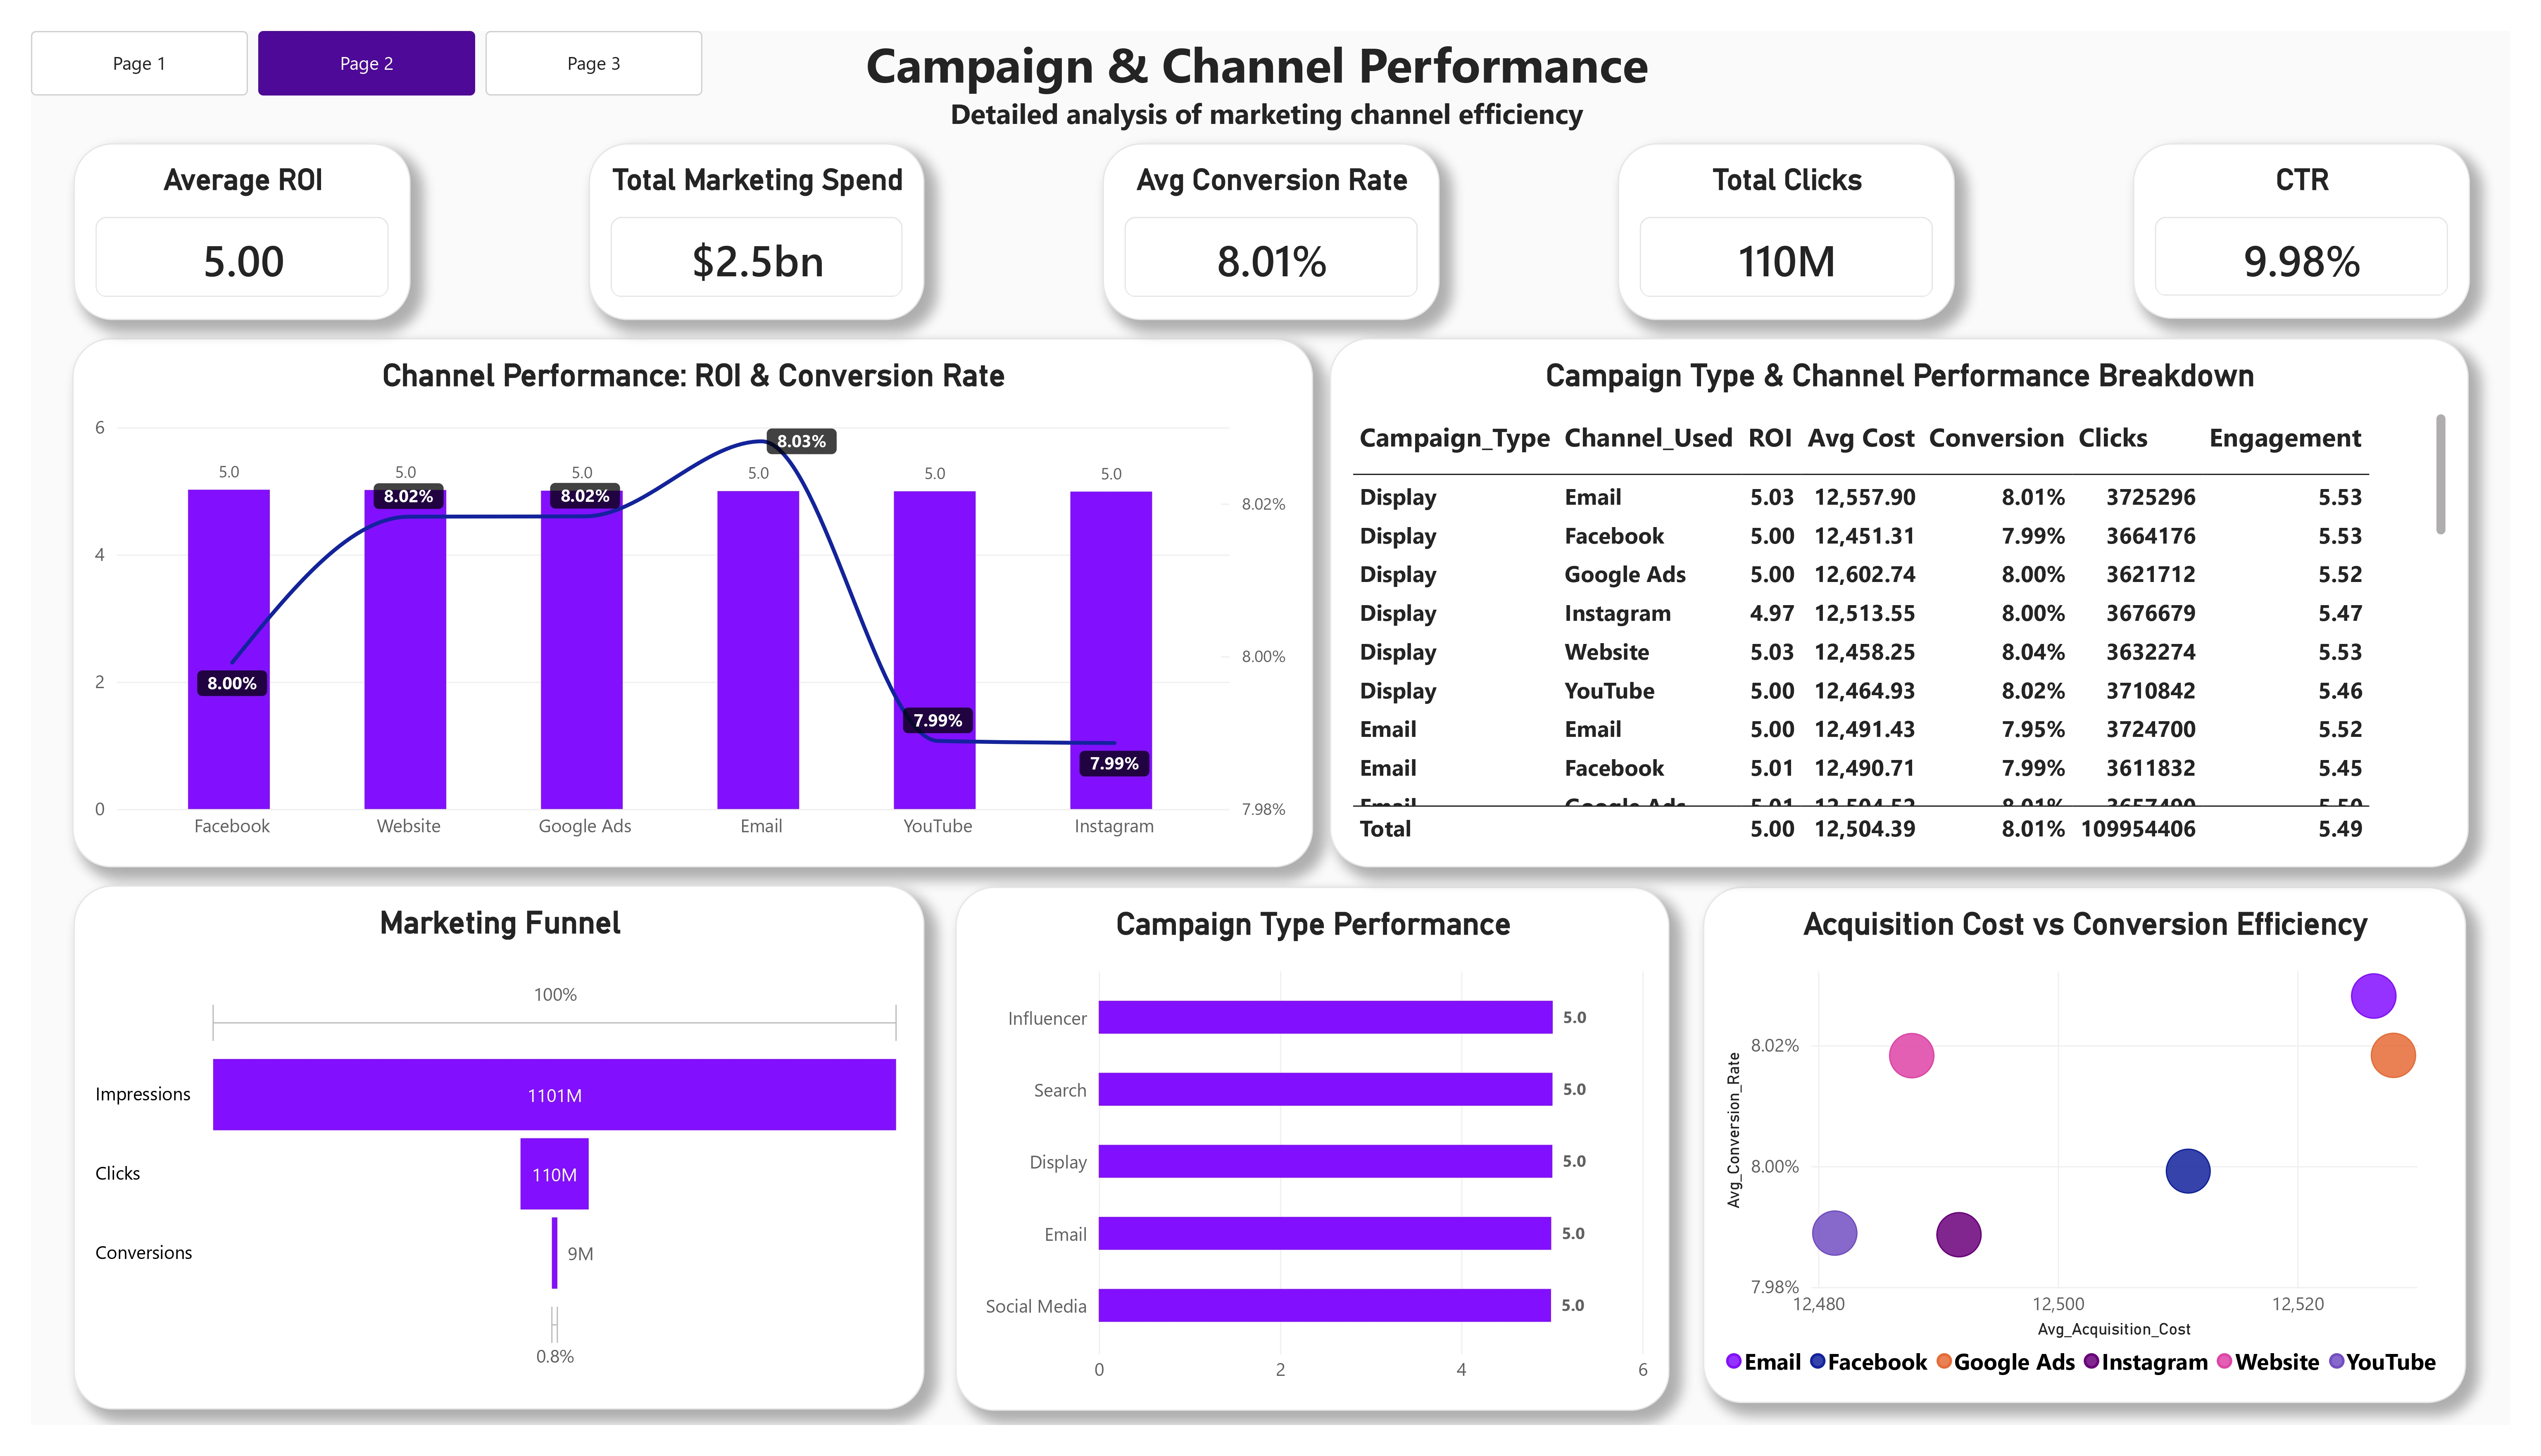

The dashboard page shown, as its layout file describes it:
{"tool":"powerbi","page":{"name":"Page 2","canvas":[1920,1080],"ordinal":1},"visuals":[{"type":"textbox","box":[10,0,280,280],"z":0},{"type":"textbox","box":[0,0,1920,77.1],"z":1000},{"type":"lineClusteredColumnComboChart","title":"Channel Performance: ROI & Conversion Rate","fields":{"Category":["marketing_campaign_dataset.Channel_Used"],"Y":["_Measure.Avg_ROI"],"Y2":["_Measure.Avg_Conversion_Rate"]},"box":[32.4,237.7,960.7,410.7],"z":2000},{"type":"cardVisual","title":"Average ROI","fields":{"Data":["_Measure.Avg_ROI"]},"box":[33,86.9,260.7,136.7],"z":3000},{"type":"cardVisual","title":"Avg Conversion Rate","fields":{"Data":["_Measure.Avg_Conversion_Rate"]},"box":[830.4,87,260.7,136.7],"z":4000},{"type":"cardVisual","title":"Total Clicks","fields":{"Data":["_Measure.Total_Clicks"]},"box":[1229,87,260.7,136.7],"z":5000},{"type":"cardVisual","title":"Total Marketing Spend","fields":{"Data":["_Measure.Total_Acquisition_Cost"]},"box":[431.7,86.9,260.7,136.7],"z":6000},{"type":"cardVisual","title":"CTR","fields":{"Data":["_Measure.CTR"]},"box":[1627.7,86.9,260.8,136.4],"z":7000},{"type":"clusteredBarChart","title":"Campaign Type Performance","fields":{"Category":["marketing_campaign_dataset.Campaign_Type"],"Y":["_Measure.Avg_ROI"]},"box":[716,662.5,552.8,406.5],"z":8000},{"type":"scatterChart","title":"Acquisition Cost vs Conversion Efficiency","fields":{"Series":["marketing_campaign_dataset.Channel_Used"],"Size":["_Measure.Total_Clicks"],"X":["_Measure.Avg_Acquisition_Cost"],"Y":["_Measure.Avg_Conversion_Rate"]},"box":[1295.5,662.5,590.8,400.9],"z":10000},{"type":"funnel","title":"Marketing Funnel","fields":{"Y":["Sum(marketing_campaign_dataset.Impressions)","_Measure.Total_Clicks","_Measure.Estimated_Conversions"]},"box":[33.5,661.9,659,406],"z":11000},{"type":"tableEx","title":"Campaign Type & Channel Performance Breakdown","fields":{"Values":["marketing_campaign_dataset.Campaign_Type","marketing_campaign_dataset.Channel_Used","_Measure.Avg_ROI","_Measure.Avg_Acquisition_Cost","_Measure.Avg_Conversion_Rate","_Measure.Total_Clicks","Avg(marketing_campaign_dataset.Engagement_Score)"]},"box":[1005.7,237.7,881.9,410.7],"z":12000},{"type":"pageNavigator","box":[0,0,520,50],"z":12001}]}

Visuals, with their boxes on the page's 1920x1080 design canvas (x1, y1, x2, y2). These are canvas units, not pixel positions in the 2541x1456 screenshot, which may show the page scaled, cropped or inside an application window:
textbox: 10, 0, 290, 280
textbox: 0, 0, 1920, 77
"Channel Performance: ROI & Conversion Rate" lineClusteredColumnComboChart: 32, 238, 993, 648
"Average ROI" cardVisual: 33, 87, 294, 224
"Avg Conversion Rate" cardVisual: 830, 87, 1091, 224
"Total Clicks" cardVisual: 1229, 87, 1490, 224
"Total Marketing Spend" cardVisual: 432, 87, 692, 224
"CTR" cardVisual: 1628, 87, 1888, 223
"Campaign Type Performance" clusteredBarChart: 716, 662, 1269, 1069
"Acquisition Cost vs Conversion Efficiency" scatterChart: 1296, 662, 1886, 1063
"Marketing Funnel" funnel: 34, 662, 692, 1068
"Campaign Type & Channel Performance Breakdown" tableEx: 1006, 238, 1888, 648
pageNavigator: 0, 0, 520, 50
